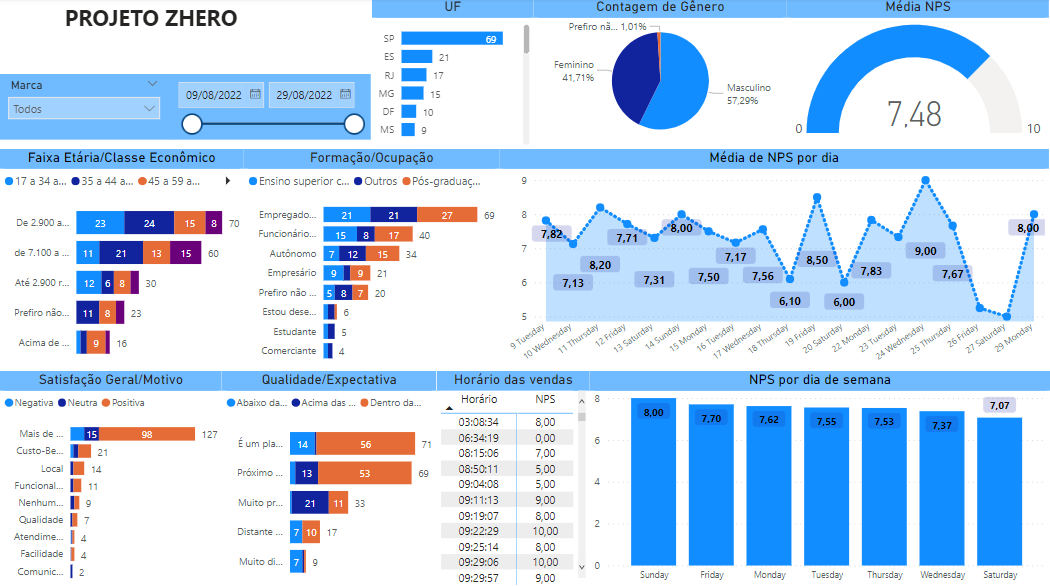

What the dashboard file says about the page in this screenshot:
{"tool":"powerbi","page":{"name":"Página 3","canvas":[1280,720],"ordinal":0},"visuals":[{"type":"barChart","title":"Faixa Etária/Classe Econômico","fields":{"Category":["Sheet1 (2).Classe Econômica"],"Y":["CountNonNull(Sheet1 (2).Faixa Etária)"],"Series":["Sheet1 (2).Faixa Etária"]},"box":[0,183.7,296.8,270.2],"z":0},{"type":"barChart","title":"UF","fields":{"Category":["Sheet1 (2).UF"],"Y":["CountNonNull(Sheet1 (2).UF)"]},"box":[532.3,453.8,186.3,266.2],"z":1},{"type":"stackedAreaChart","title":"Média de NPS por dia","fields":{"Category":["Sheet1 (2).Dia.Variation.Hierarquia de datas.Dia","Sheet1 (2).Dia_de_semana"],"Y":["Avg(Sheet1 (2).NPS)1"]},"box":[607.9,183.6,671.1,270.4],"z":2},{"type":"barChart","title":"Formação/Ocupação","fields":{"Category":["Sheet1 (2).Ocupação"],"Y":["CountNonNull(Sheet1 (2).Formação)"],"Series":["Sheet1 (2).Formação"]},"box":[296.8,183.7,311.4,270.2],"z":3},{"type":"barChart","title":"Qualidade/Expectativa","fields":{"Category":["Sheet1 (2).Qualidade Percebida"],"Y":["CountNonNull(Sheet1 (2).Expectativa Atendida)"],"Series":["Sheet1 (2).Expectativa Atendida"]},"box":[270.7,453.7,261.6,265.9],"z":4},{"type":"barChart","title":"Satisfação Geral/Motivo","fields":{"Category":["Sheet1 (2).Motivos da Satisfação"],"Y":["CountNonNull(Sheet1 (2).Satisfação Geral)"],"Series":["Sheet1 (2).Satisfação Geral"]},"box":[0,453.7,270.7,265.9],"z":5},{"type":"gauge","title":"Media NPS","fields":{"Y":["Avg(Sheet1 (2).NPS)"],"MinValue":["Min(Sheet1 (2).NPS)"],"MaxValue":["Max(Sheet1 (2).NPS)"]},"box":[971.5,24,279.5,141.1],"z":6},{"type":"pieChart","fields":{"Category":["Sheet1 (2).Gênero"],"Y":["CountNonNull(Sheet1 (2).Gênero)"]},"box":[640.1,24,278.2,141.1],"z":7},{"type":"slicer","fields":{"Values":["Sheet1 (2).Dia"]},"box":[290.1,83.8,242.2,79.9],"z":8},{"type":"slicer","fields":{"Values":["Sheet1 (2).Marca"]},"box":[0,83.8,206.3,81.2],"z":9},{"type":"columnChart","title":"NPS por dia de semana","fields":{"Category":["Sheet1 (2).Dia_de_semana"],"Y":["Avg(Sheet1 (2).NPS)"]},"box":[718.4,453.9,560.5,265.8],"z":10},{"type":"textbox","box":[0,0,270.2,61.2],"z":11}]}

Visuals, with their boxes in screenshot pixels (x1, y1, x2, y2), scaled from the page's 1280x720 canvas onto the 1050x586 screenshot:
"Faixa Etária/Classe Econômico" barChart: [0, 150, 243, 369]
"UF" barChart: [437, 369, 589, 585]
"Média de NPS por dia" stackedAreaChart: [499, 149, 1049, 370]
"Formação/Ocupação" barChart: [243, 150, 499, 369]
"Qualidade/Expectativa" barChart: [222, 369, 437, 585]
"Satisfação Geral/Motivo" barChart: [0, 369, 222, 585]
"Media NPS" gauge: [797, 20, 1026, 134]
pieChart - Sheet1 (2).Gênero x CountNonNull(Sheet1 (2).Gênero): [525, 20, 753, 134]
slicer - Sheet1 (2).Dia: [238, 68, 437, 133]
slicer - Sheet1 (2).Marca: [0, 68, 169, 134]
"NPS por dia de semana" columnChart: [589, 369, 1049, 585]
textbox: [0, 0, 222, 50]
